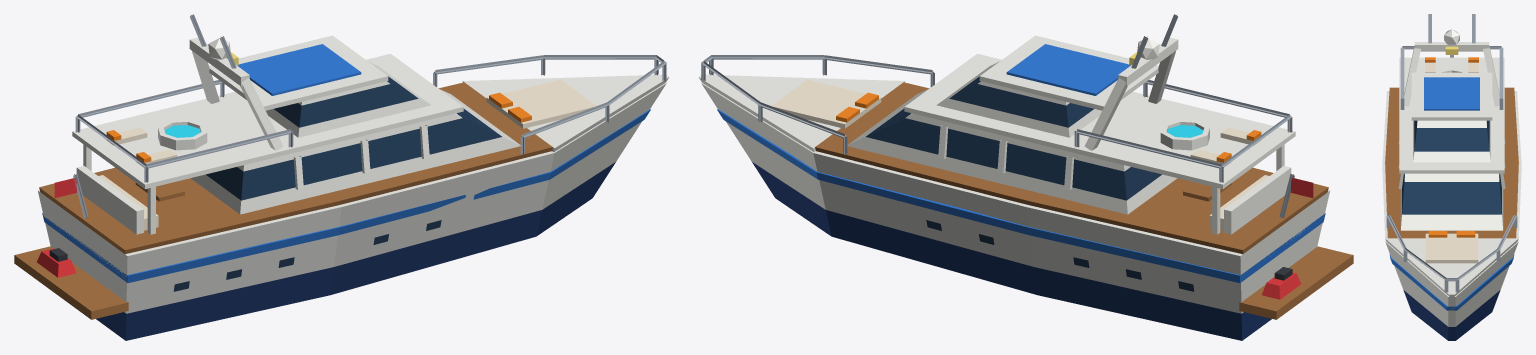
File: yacht.glb
3 views of the same model, side by side, from view 1: azimuth 30°, elevation 25°; view 2: azimuth 150°, elevation 25°; view 3: azimuth 270°, elevation 25° (orthographic). The views are drawn at different scales.
Visible parts, largest first — view 1: Body; view 2: Body; view 3: Body.
Part boxes in pixels (box(x1,y1,x2,y2)): Body: box(14, 14, 669, 340); Body: box(698, 14, 1353, 340); Body: box(1382, 14, 1521, 340).
Bounding box in the file's own units: 1.66 × 0.6822 × 0.45.
